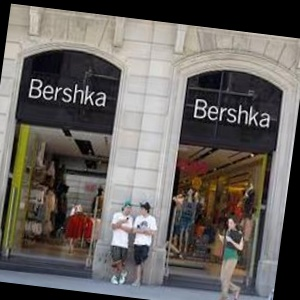bershka: (106, 51, 300, 143), (94, 50, 129, 123)
